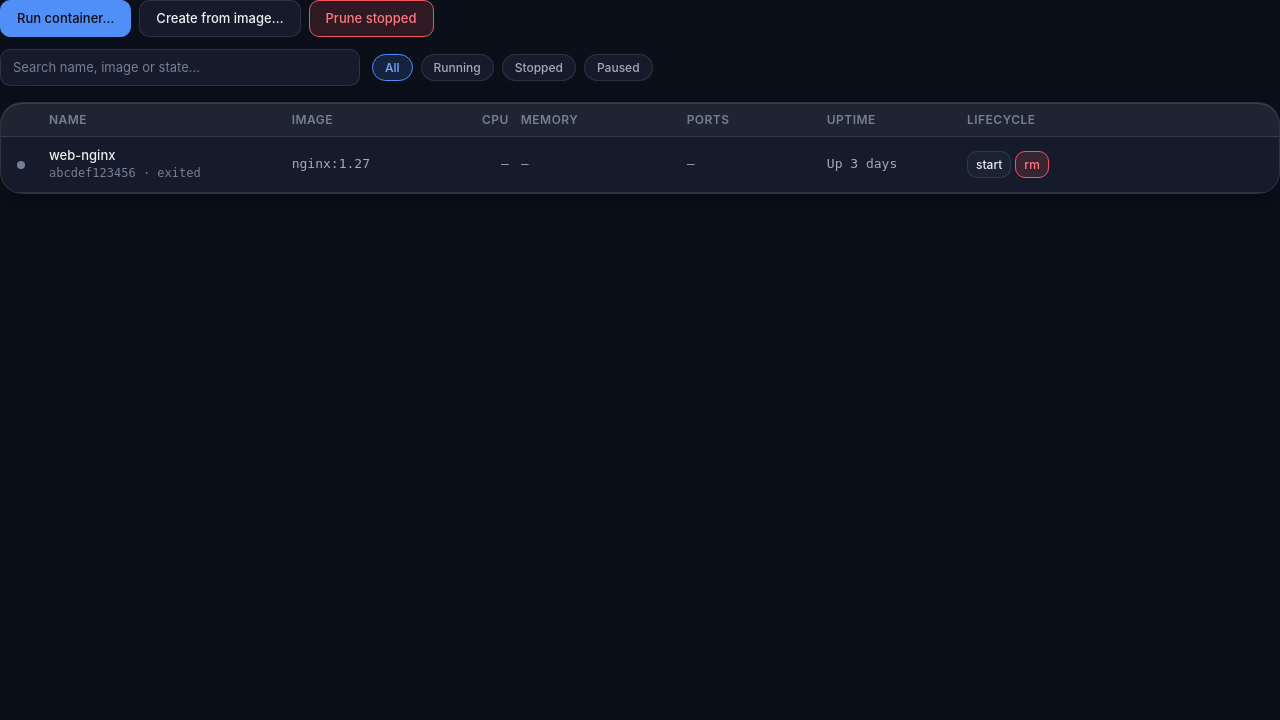
Scenario: ContainersScreen — bulk prune of stopped containers (REQ-22) › reports the removed count and reclaimed space, and re-reads the list, once confirmed
Click the button "Prune stopped".
click(371, 18)  # box [308, 0, 434, 37]
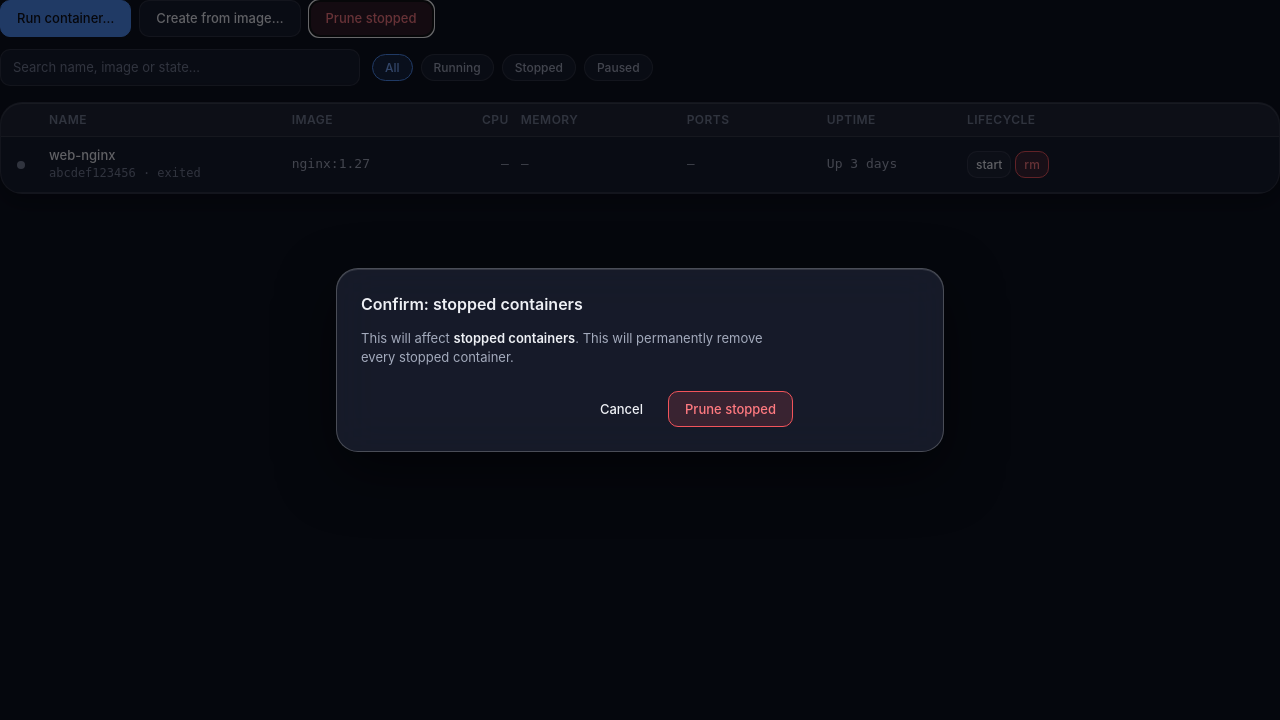
Expected: the heading "Confirm: stopped containers" is shown, [361, 294, 583, 314]
Click the button "Prune stopped".
click(730, 409)  # box [668, 390, 793, 427]
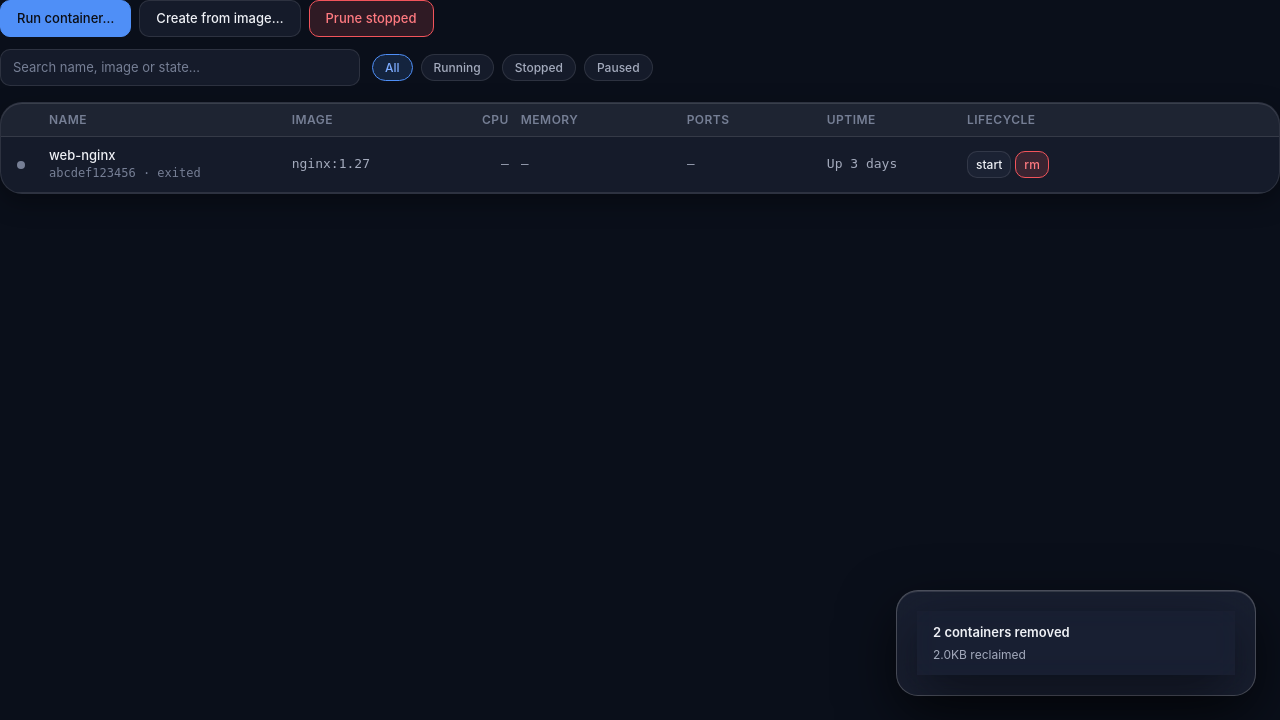
Expected: the element with class "ui-toast-viewport" shows "2", [933, 624, 1070, 640]
Expected: the element with class "ui-toast-viewport" reads "2 containers removed 2.0KB reclaimed", [933, 647, 1026, 662]
